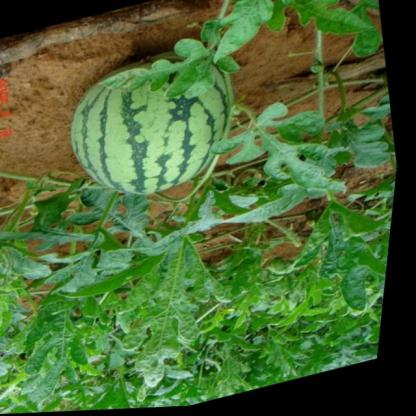watermelon: (53, 36, 257, 213)
